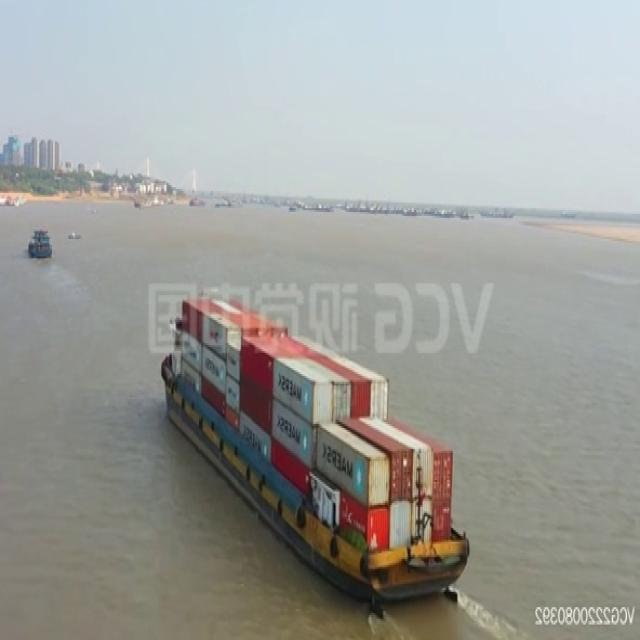cargoship: (159, 286, 473, 598)
fishing boat: (27, 228, 54, 262)
